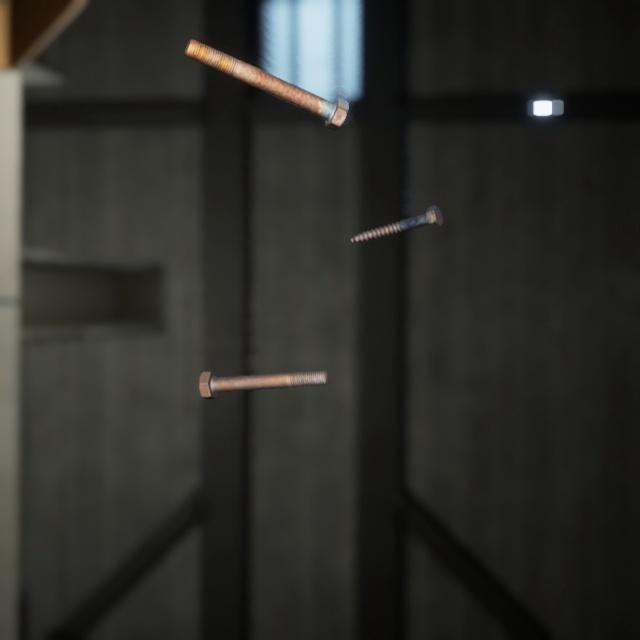bolt: (179, 23, 352, 122), (194, 346, 333, 384), (346, 185, 447, 232)
